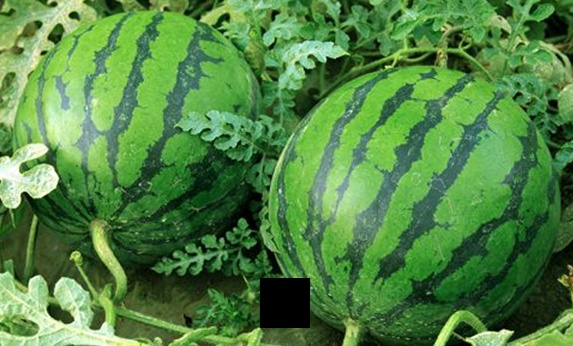watermelon: (277, 63, 563, 332), (12, 9, 260, 262)
